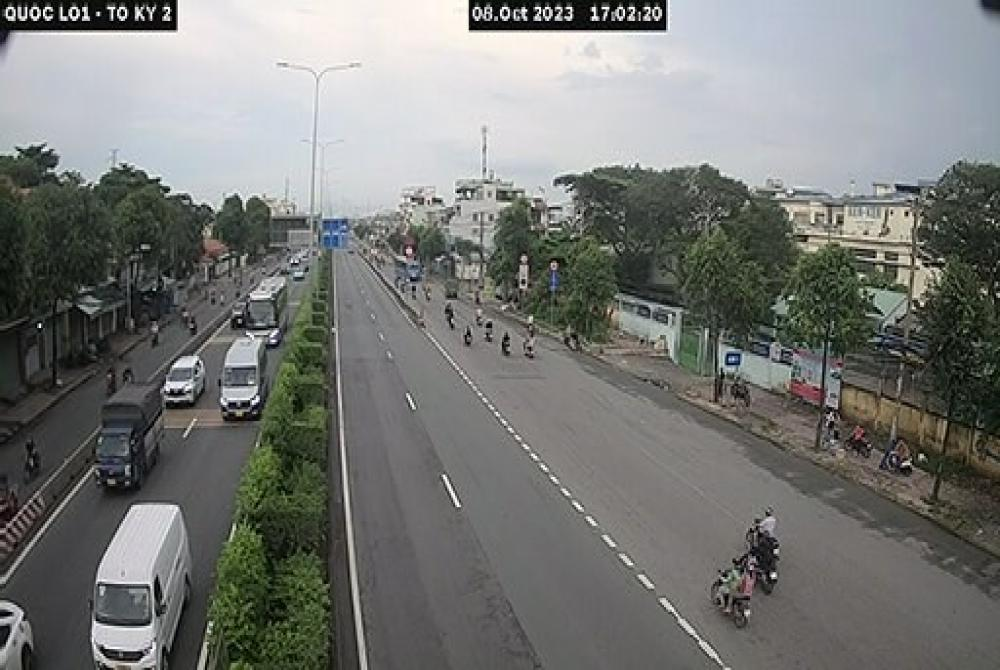car: (90, 492, 192, 670), (220, 334, 274, 430), (164, 352, 205, 414)
truck: (88, 377, 166, 484)
